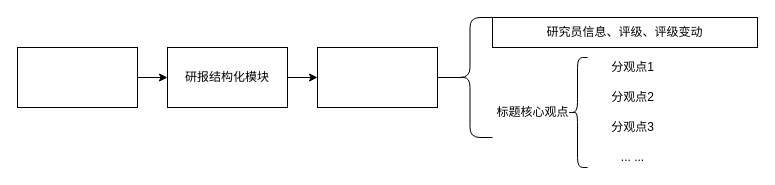
This 775x185 diagram has some shape labels left out. Each missing label, with the centre of its shape:
券商研究报告PDF: the point at 77,77
研报结构化内容JSON: the point at 377,77
